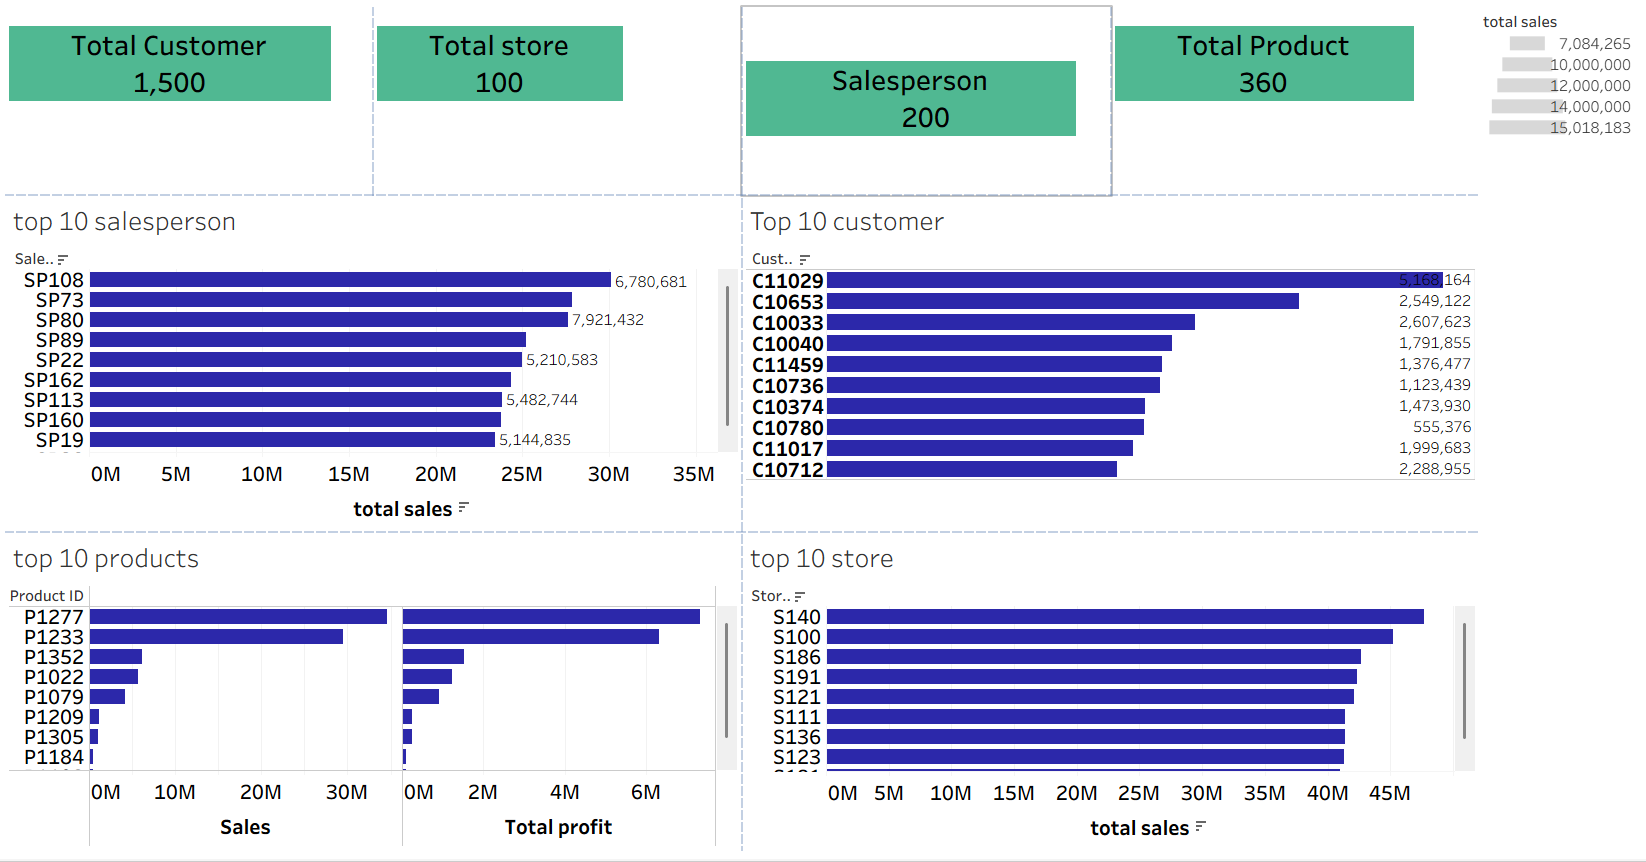

The page's visual inventory and layout, read from the dashboard file:
{"tool":"tableau","page":{"name":"Dashboard 5","canvas":[1000,1000],"units":"permille","ordinal":2},"visuals":[{"type":"worksheet","title":"Total customer","mark":"Automatic","box":[4.9,9.3,223.3,218.6]},{"type":"worksheet","title":"Total store","mark":"Automatic","box":[228.2,9.3,223.3,218.6]},{"type":"worksheet","title":"salesperson","mark":"Automatic","box":[451.5,9.3,223.3,218.6]},{"type":"worksheet","title":"Total product","mark":"Automatic","box":[674.9,9.3,223.3,218.6]},{"type":"legend","title":"Top 10 customer","param":"[federated.0b6uyzn1tn4fho1comy171s3y62z].[usr:Calculation_1266355982566121477:qk","box":[898.2,9.3,97,157]},{"type":"worksheet","title":"top 10 salesperson","mark":"Automatic","rows":["Salesperson"],"cols":["Calculation_1266355982566121477"],"box":[4.9,227.9,446.7,391.9]},{"type":"worksheet","title":"Top 10 customer","mark":"Bar","rows":["Customer ID"],"box":[451.5,227.9,446.7,391.9]},{"type":"worksheet","title":"top 10 products","mark":"Automatic","rows":["Product ID"],"cols":["Sales","Calculation_1266355982566457351"],"box":[4.9,619.8,446.7,370.9]},{"type":"worksheet","title":"top 10 store","mark":"Automatic","rows":["Store ID"],"cols":["Calculation_1266355982566121477"],"box":[451.5,619.8,446.7,370.9]}]}

Visuals, with their boxes on the dashboard's canvas, which has no fixed pixel size, in thousandths of its width and height (x1, y1, x2, y2). These are canvas units, not pixel positions in the 1646x862 screenshot, which may show the page scaled, cropped or inside an application window:
"Total customer" worksheet: {"left": 5, "top": 9, "right": 228, "bottom": 228}
"Total store" worksheet: {"left": 228, "top": 9, "right": 452, "bottom": 228}
"salesperson" worksheet: {"left": 452, "top": 9, "right": 675, "bottom": 228}
"Total product" worksheet: {"left": 675, "top": 9, "right": 898, "bottom": 228}
"Top 10 customer" legend: {"left": 898, "top": 9, "right": 995, "bottom": 166}
"top 10 salesperson" worksheet: {"left": 5, "top": 228, "right": 452, "bottom": 620}
"Top 10 customer" worksheet (Bar marks): {"left": 452, "top": 228, "right": 898, "bottom": 620}
"top 10 products" worksheet: {"left": 5, "top": 620, "right": 452, "bottom": 991}
"top 10 store" worksheet: {"left": 452, "top": 620, "right": 898, "bottom": 991}
